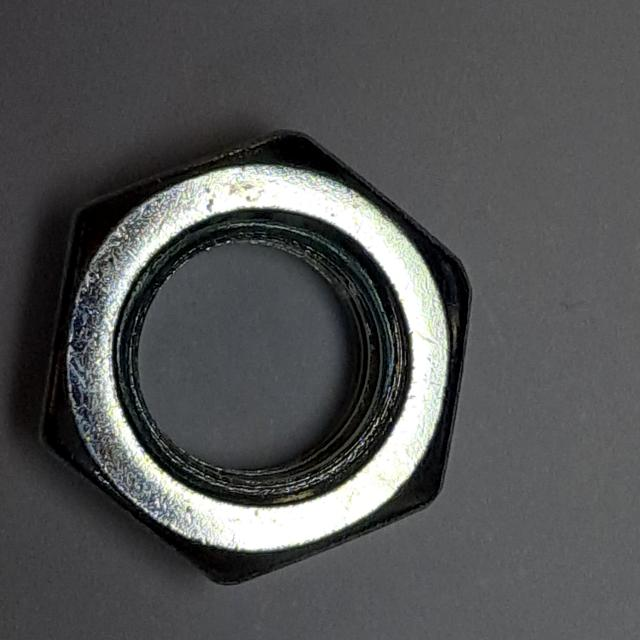Excellent: (32, 117, 483, 604)
